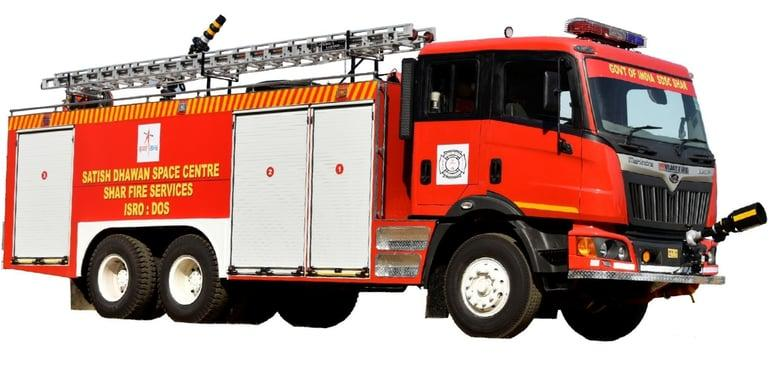Fire-engine: (17, 22, 745, 336)
